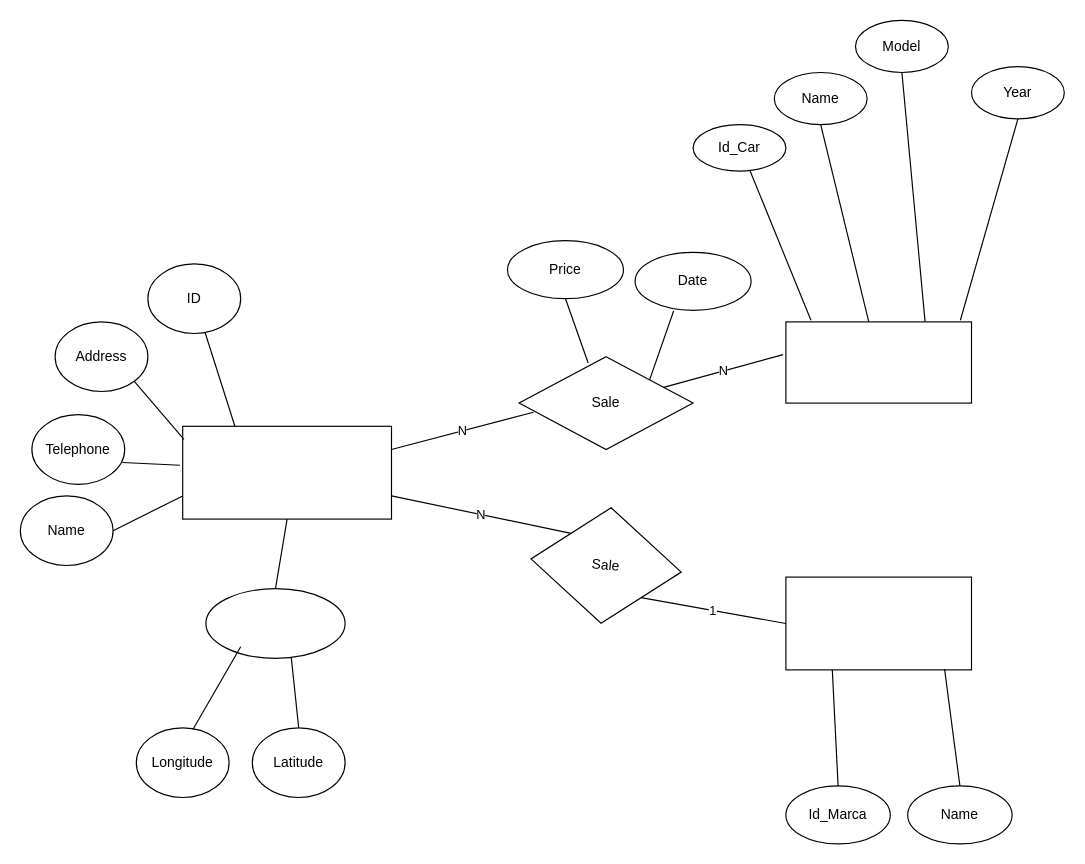
This 1085x864 diagram has some shape labels left out. Each missing label, with the box of its shape:
Car Agency: (182, 425, 392, 519)
Cars: (785, 321, 971, 403)
Localization: (205, 588, 345, 658)
Make: (785, 576, 971, 670)
